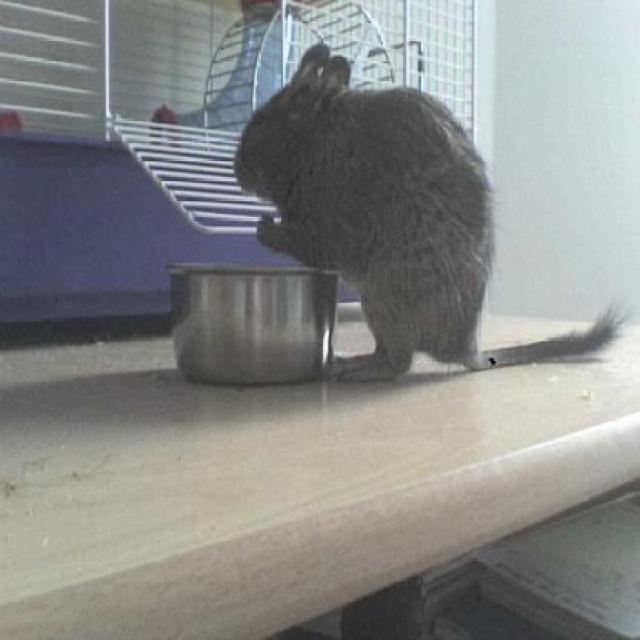Mouse: (234, 41, 504, 389)
